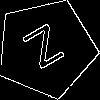Z: (21, 23, 72, 78)
